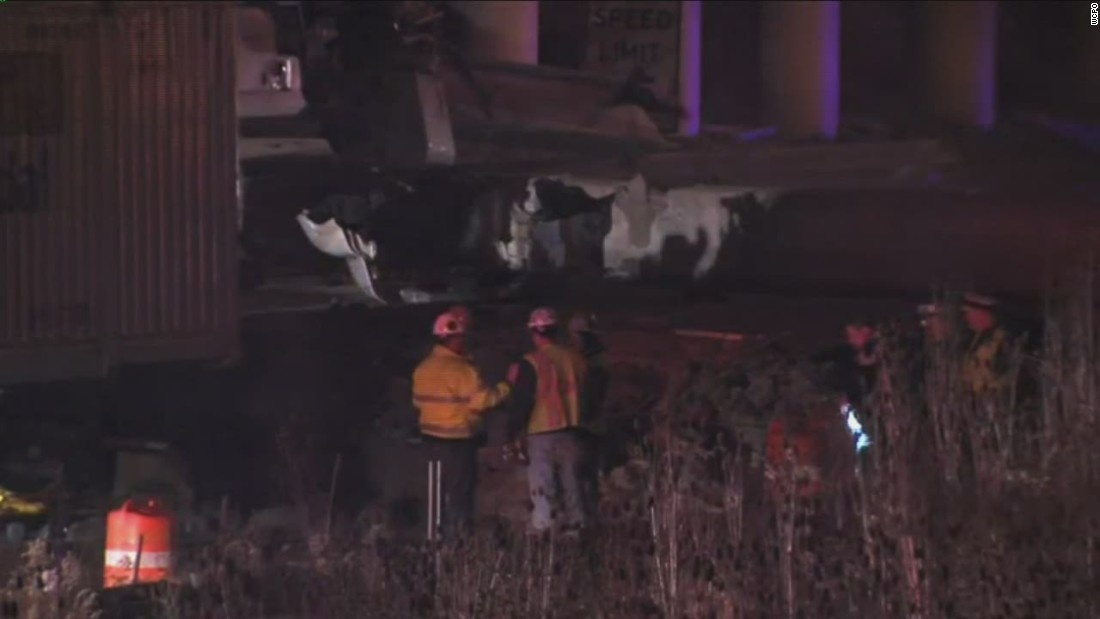white: (431, 309, 472, 351), (525, 304, 561, 346)
